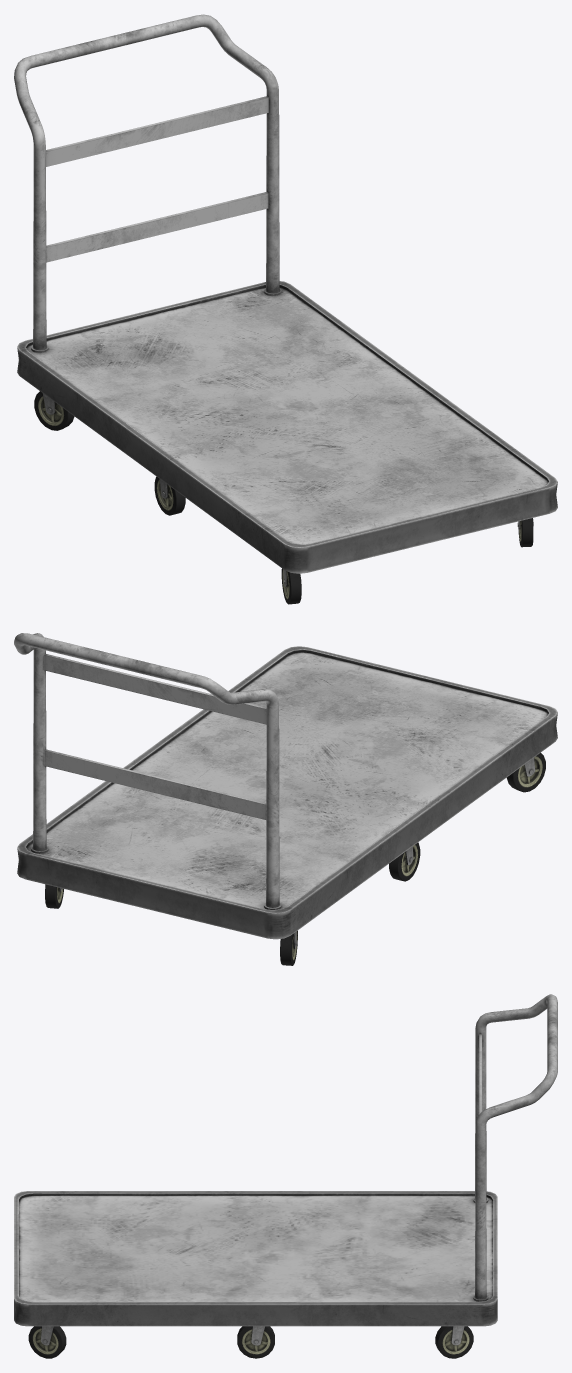
File: commercial_cart.glb
3 renders of one model, top to bottom at view 1: azimuth 30°, elevation 25°; view 2: azimuth 150°, elevation 25°; view 3: azimuth 270°, elevation 25°, orthographic. The views are drawn at different scales.
Visible parts, largest first — view 1: pCylinder16, pCone4, pCube3, pCube4, pCylinder13; view 2: pCylinder16, pCone4, pCube3, pCube4, pCylinder13 (×3); view 3: pCylinder16, pCone4, pCylinder13 (×3).
Part boxes in pixels (x1,y1,x2,y2): pCylinder16: [17, 281, 557, 573]; pCone4: [14, 14, 281, 352]; pCube3: [46, 192, 268, 262]; pCube4: [46, 96, 268, 166]; pCylinder13: [34, 391, 74, 430]; pCylinder16: [17, 646, 557, 939]; pCone4: [14, 633, 281, 909]; pCube3: [44, 749, 266, 819]; pCube4: [44, 654, 266, 724]; pCylinder13 (×3): [280, 752, 545, 965]; pCylinder16: [14, 1191, 497, 1326]; pCone4: [473, 994, 557, 1301]; pCylinder13 (×3): [28, 1326, 473, 1358].
Size of the model in its own units: 93.4 by 106 by 189.
Materials: 1 (1 with a texture image).
